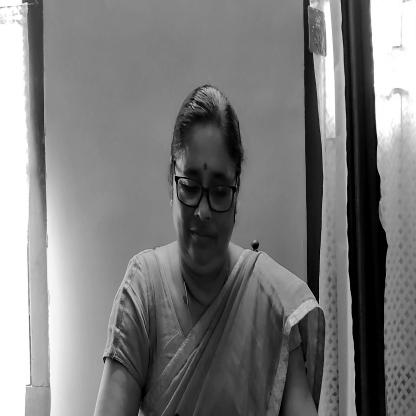Normal: (170, 100, 245, 274)
